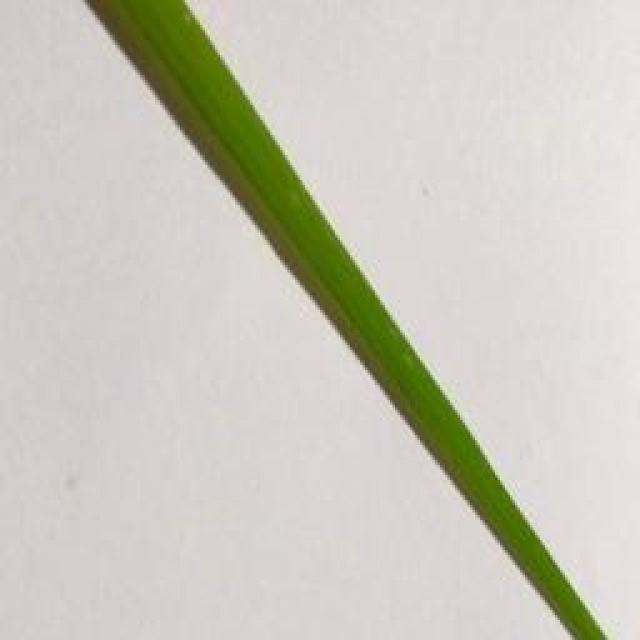Healthy-Plant: (103, 0, 602, 640)
